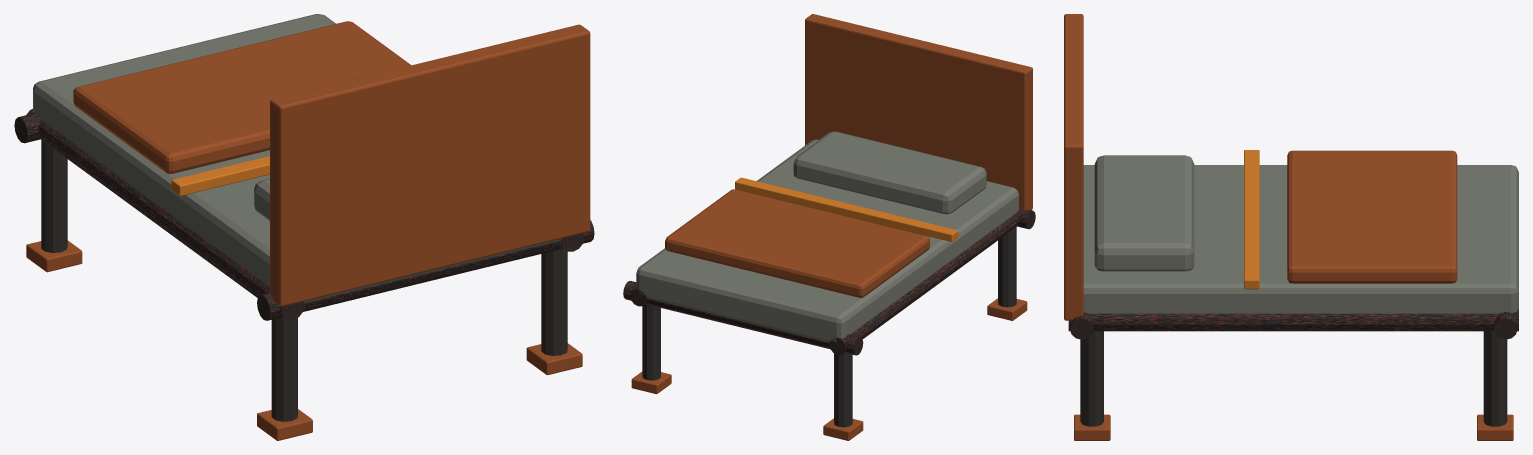
File: salvaged_cot.glb
3 views of the same model, side by side, from view 1: azimuth 30°, elevation 25°; view 2: azimuth 150°, elevation 25°; view 3: azimuth 270°, elevation 25° (orthographic). The views are drawn at different scales.
Visible parts, largest first — view 1: Raised cot head, Folded filthy blanket, Sagging cot mattress, Cot end rail, Cot side rail, Cot bent leg.002, Cot bent leg.001, Cot bent leg, Mattress repair strap, Cot foot pad.001, Cot foot pad.002, Cot foot pad (+2 smaller); view 2: Raised cot head, Sagging cot mattress, Folded filthy blanket, Worn pillow, Mattress repair strap, Cot end rail, Cot side rail.001, Cot bent leg.003, Cot bent leg, Cot bent leg.001, Cot foot pad.003, Cot foot pad (+1 smaller); view 3: Sagging cot mattress, Folded filthy blanket, Worn pillow, Cot end rail.001, Raised cot head, Cot bent leg.003, Mattress repair strap, Cot bent leg.002, Cot foot pad.002, Cot foot pad.003, Cot side rail.001, Cot side rail.
Part boxes in pixels (x1,y1,x2,y2): Raised cot head: (270,24,590,306); Folded filthy blanket: (73,21,410,173); Sagging cot mattress: (33,14,561,302); Cot end rail: (26,109,304,319); Cot side rail: (257,220,594,320); Cot bent leg.002: (541,248,567,355); Cot bent leg.001: (41,140,67,252); Cot bent leg: (271,317,297,421); Mattress repair strap: (171,156,269,196); Cot foot pad.001: (26,240,82,272); Cot foot pad.002: (526,343,582,375); Cot foot pad: (257,409,312,440); Raised cot head: (805,14,1032,210); Sagging cot mattress: (636,139,1018,342); Folded filthy blanket: (665,189,929,297); Worn pillow: (793,131,986,214); Mattress repair strap: (735,177,958,241); Cot end rail: (829,212,1018,354); Cot side rail.001: (623,281,863,355); Cot bent leg.003: (642,304,660,380); Cot bent leg: (998,227,1016,307); Cot bent leg.001: (834,352,852,427); Cot foot pad.003: (631,371,671,394); Cot foot pad: (987,298,1027,320); Sagging cot mattress: (1083,165,1518,313); Folded filthy blanket: (1287,150,1457,283); Worn pillow: (1094,155,1194,271); Cot end rail.001: (1068,309,1518,331); Raised cot head: (1064,14,1083,320); Cot bent leg.003: (1483,331,1507,426); Mattress repair strap: (1244,150,1259,289); Cot bent leg.002: (1080,331,1103,426); Cot foot pad.002: (1074,414,1110,440); Cot foot pad.003: (1477,414,1513,440); Cot side rail.001: (1494,312,1517,339); Cot side rail: (1070,312,1093,339).
Size of the model in its own units: 1.25 by 1.25 by 1.74.
5 materials, 1 textured.
